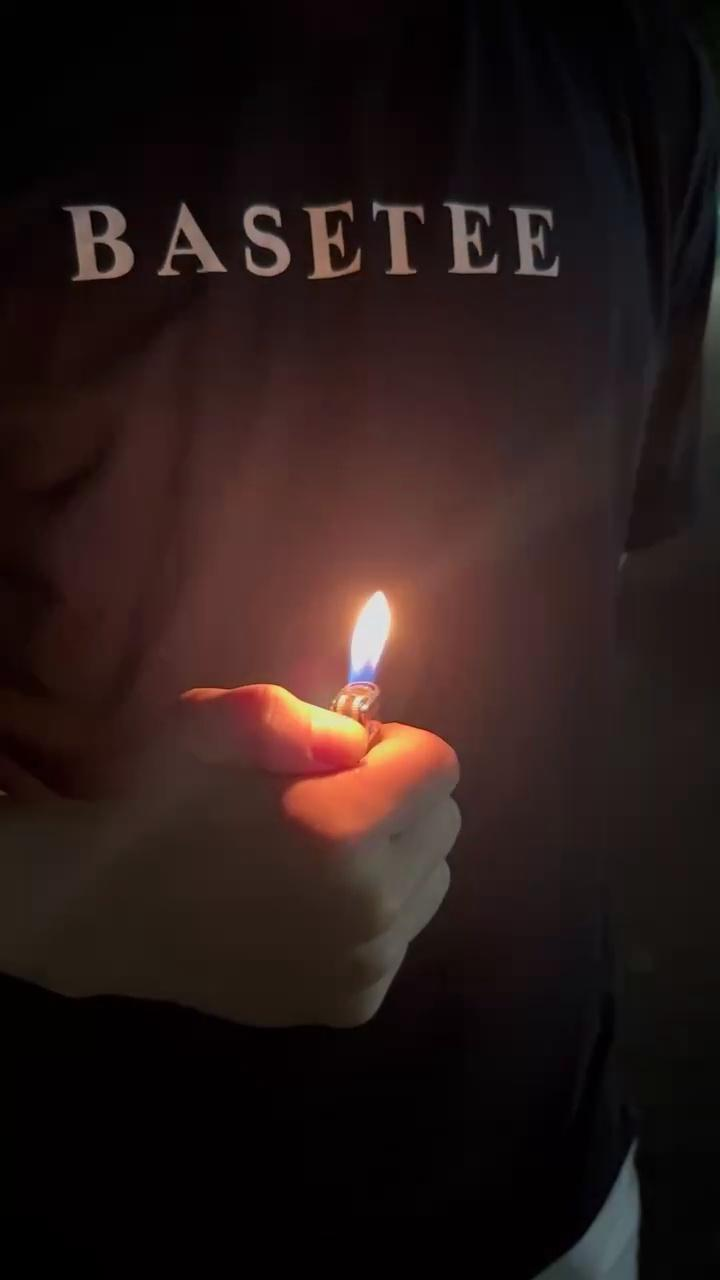Fire: (332, 565, 418, 700)
